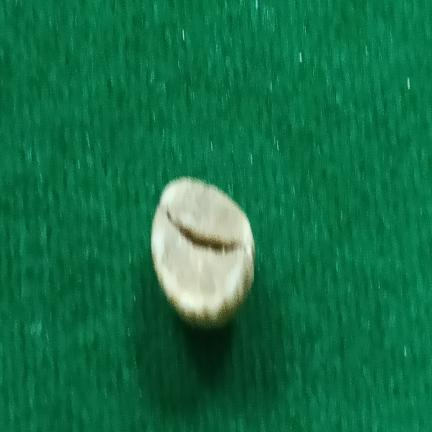cut: (151, 177, 255, 327)
